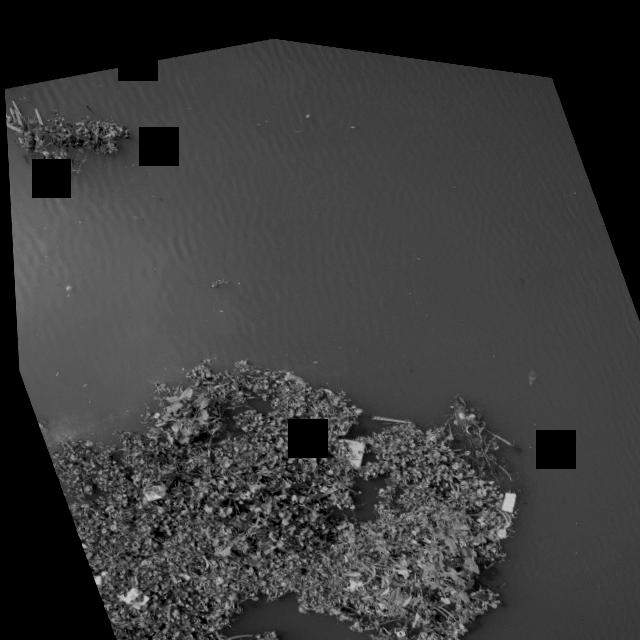plastic: (318, 411, 377, 473), (106, 575, 151, 617), (489, 469, 521, 502), (448, 389, 481, 415), (133, 475, 163, 502), (482, 507, 506, 532), (447, 549, 471, 570), (462, 418, 480, 436), (171, 561, 188, 580), (469, 470, 486, 487), (85, 567, 100, 585), (386, 615, 402, 630), (468, 433, 482, 450), (92, 561, 106, 576), (312, 472, 327, 486), (145, 405, 157, 418), (464, 465, 474, 475)
